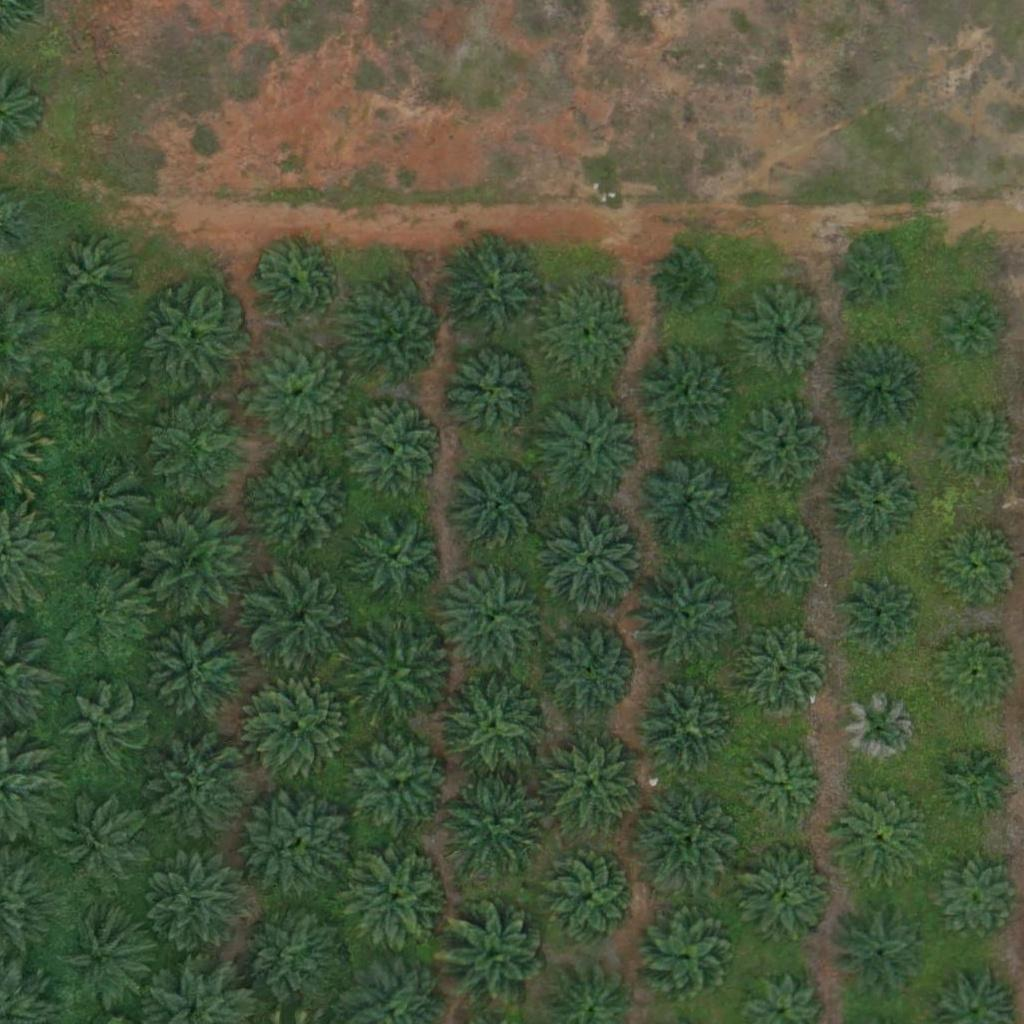Kelapa_Sawit: (243, 337, 356, 451), (247, 449, 360, 563), (344, 613, 457, 727), (436, 670, 549, 784), (444, 769, 557, 883), (142, 844, 255, 957), (631, 560, 744, 673), (438, 901, 551, 1014), (434, 563, 546, 677), (631, 785, 743, 899), (145, 507, 257, 620), (143, 615, 255, 728), (247, 564, 359, 677), (246, 788, 358, 901), (438, 234, 550, 347), (538, 504, 650, 617), (237, 904, 349, 1017), (151, 739, 251, 840), (249, 675, 349, 776), (346, 289, 446, 390), (351, 732, 451, 833), (447, 348, 547, 449), (449, 454, 549, 555), (540, 286, 640, 387), (542, 392, 642, 493), (636, 344, 736, 445), (639, 452, 739, 553), (637, 676, 737, 777), (733, 282, 833, 383), (835, 785, 935, 886), (923, 850, 1023, 951), (829, 900, 929, 1001), (344, 847, 444, 948), (56, 905, 156, 1006), (142, 289, 242, 389), (155, 399, 255, 499), (346, 398, 446, 498), (349, 509, 449, 609), (541, 620, 641, 720), (543, 737, 643, 837), (737, 844, 837, 944), (636, 906, 736, 1006), (540, 847, 640, 947), (741, 406, 829, 495), (931, 630, 1019, 719), (932, 737, 1020, 825), (49, 234, 137, 322), (60, 464, 148, 552), (835, 349, 923, 437), (832, 462, 920, 550), (934, 528, 1022, 616), (65, 354, 152, 442), (64, 568, 151, 656), (59, 682, 146, 770), (60, 798, 147, 886), (250, 237, 337, 325), (738, 520, 825, 608), (741, 630, 828, 718), (747, 747, 822, 823), (937, 412, 1012, 487), (841, 580, 916, 655), (843, 694, 918, 769), (842, 245, 905, 308), (939, 292, 1002, 355), (659, 247, 722, 310)
